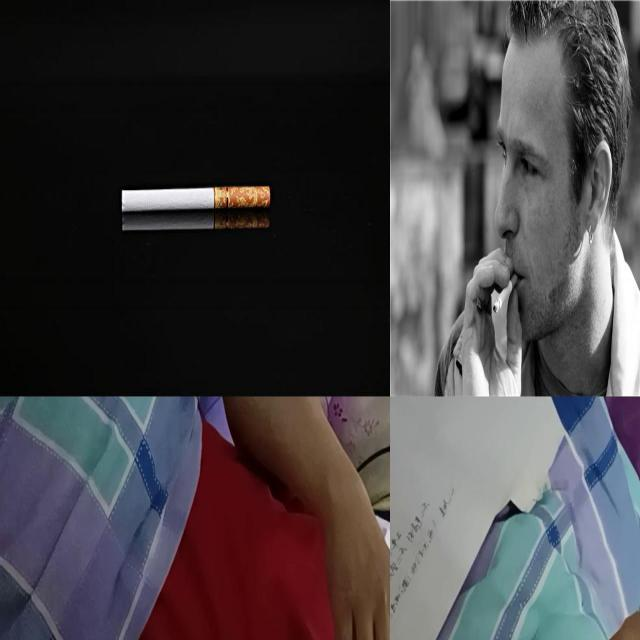smoking: (120, 185, 274, 213), (121, 212, 271, 232), (492, 273, 518, 314)
